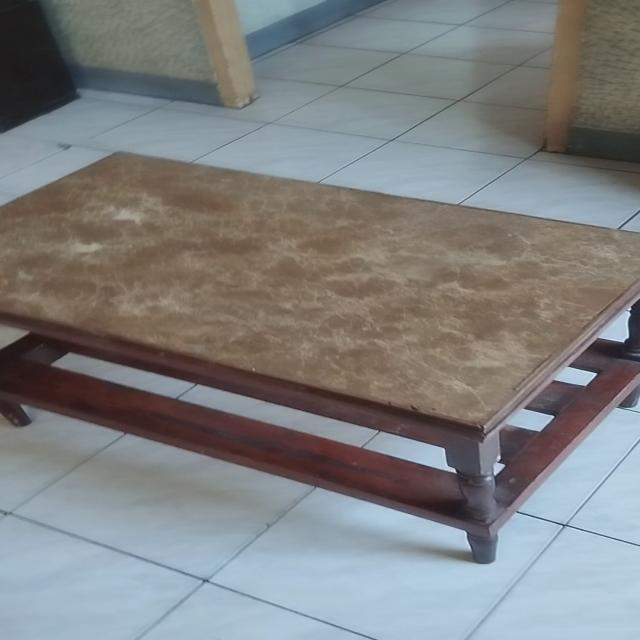table: (0, 148, 640, 562)
